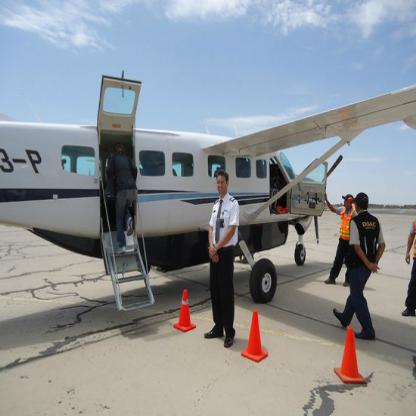CIV_Plane: (2, 68, 416, 315)
